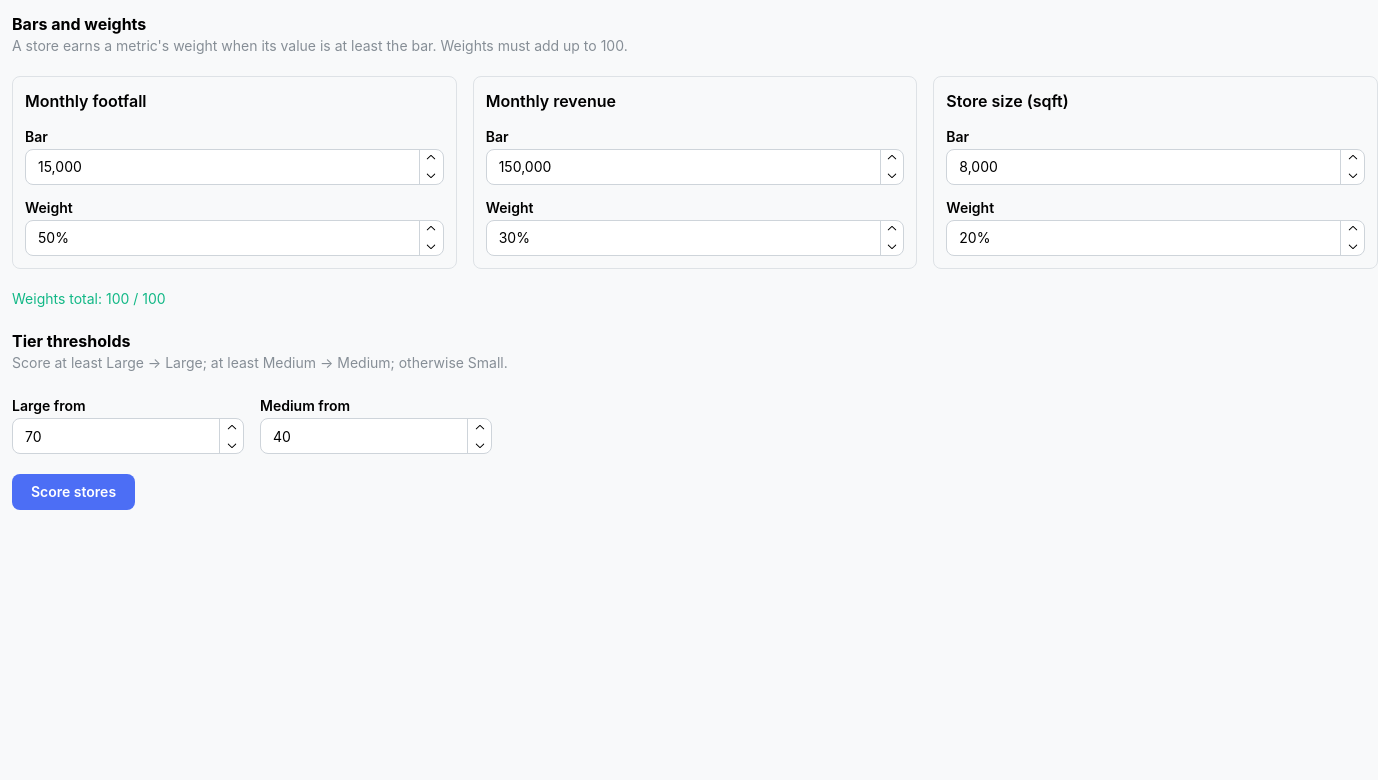
Scenario: ScoringForm › blocks Medium above Large
Replace the text in the field labelled "Medium from" with "80": (376, 436) [260,418,492,454]
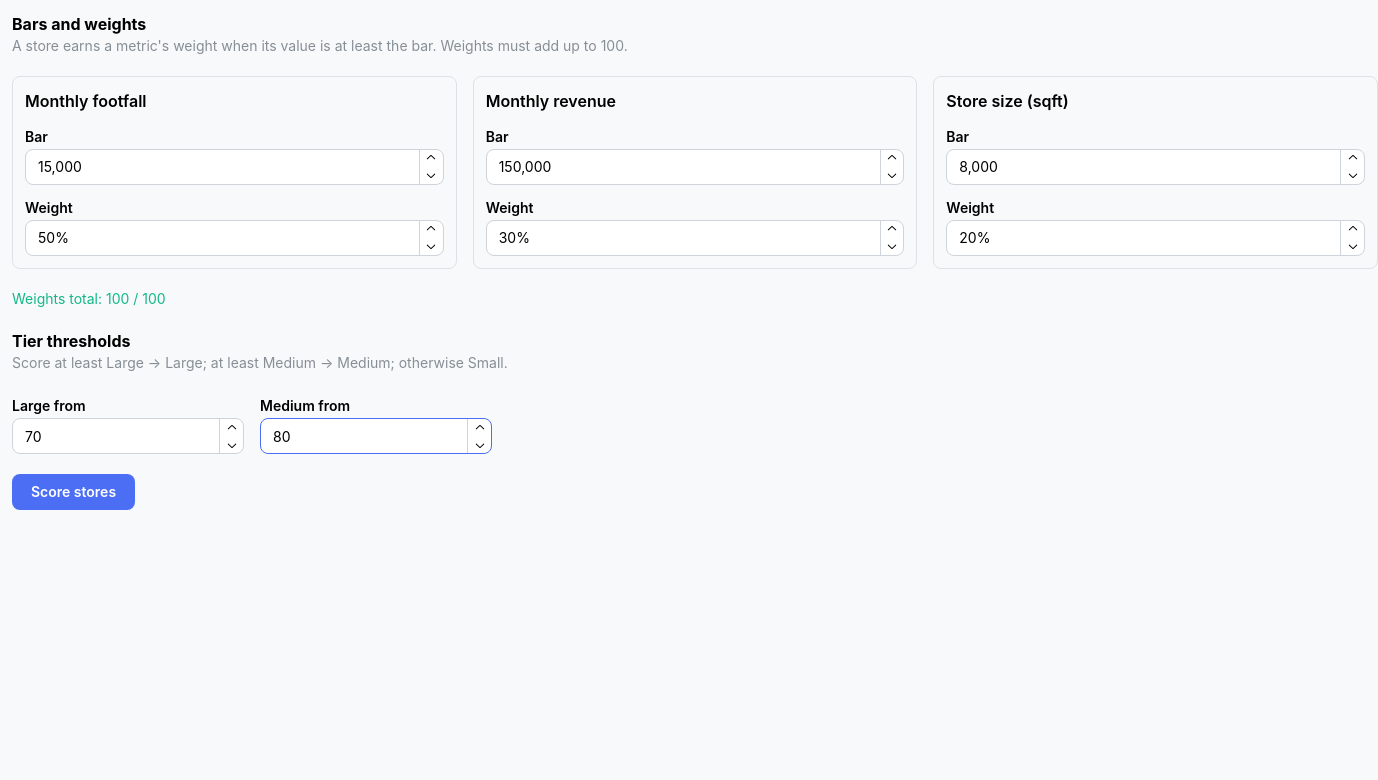
Click the button "Score stores": (74, 492) [12,474,135,510]
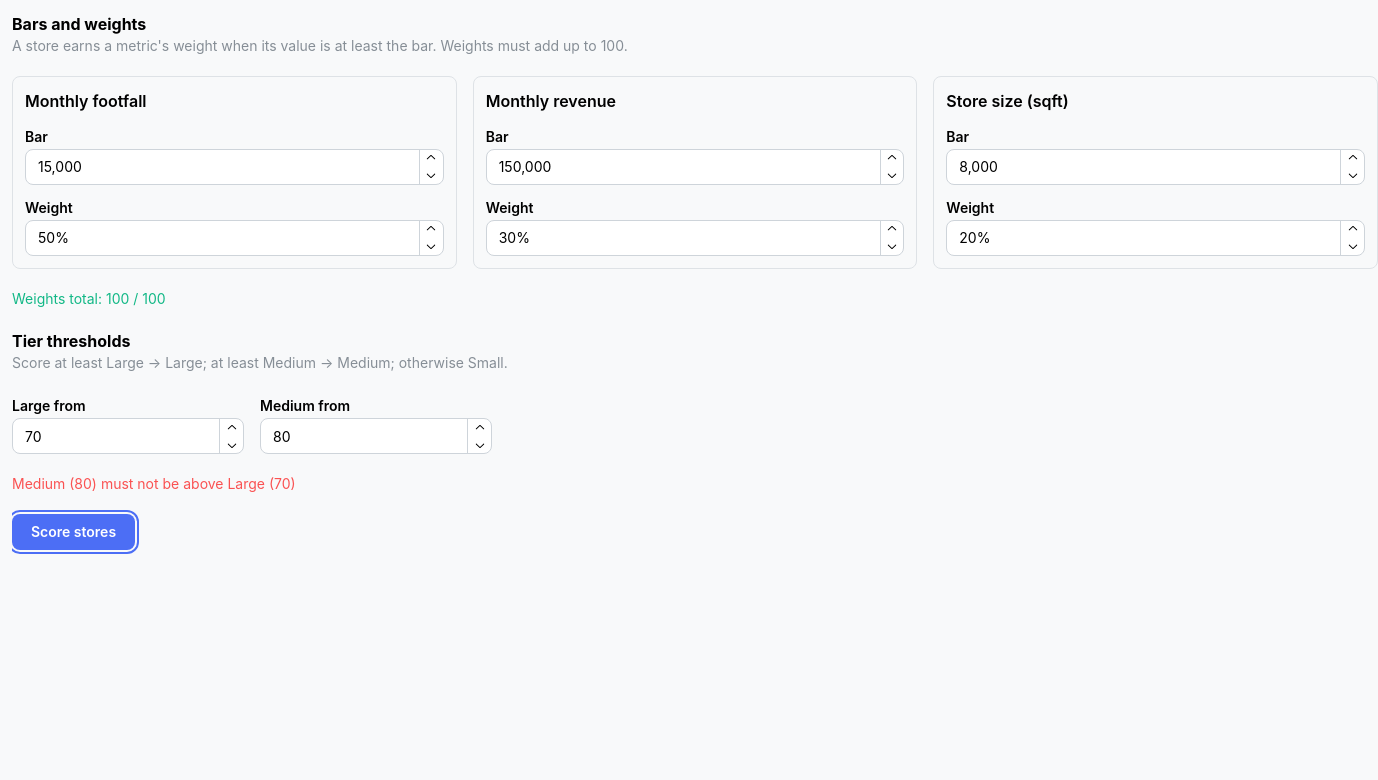
Result: the text "Medium (80) must not be above Large (70)" is shown at [12,475,296,492]
